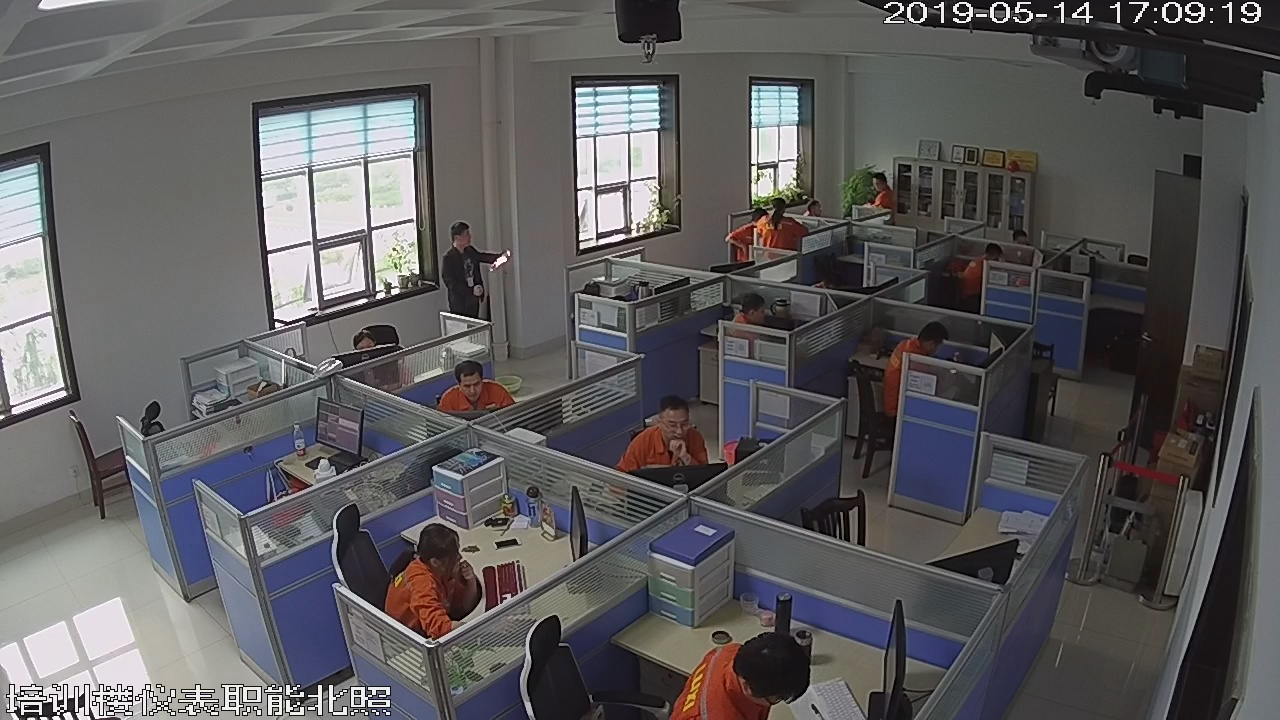fire: (485, 247, 514, 270)
